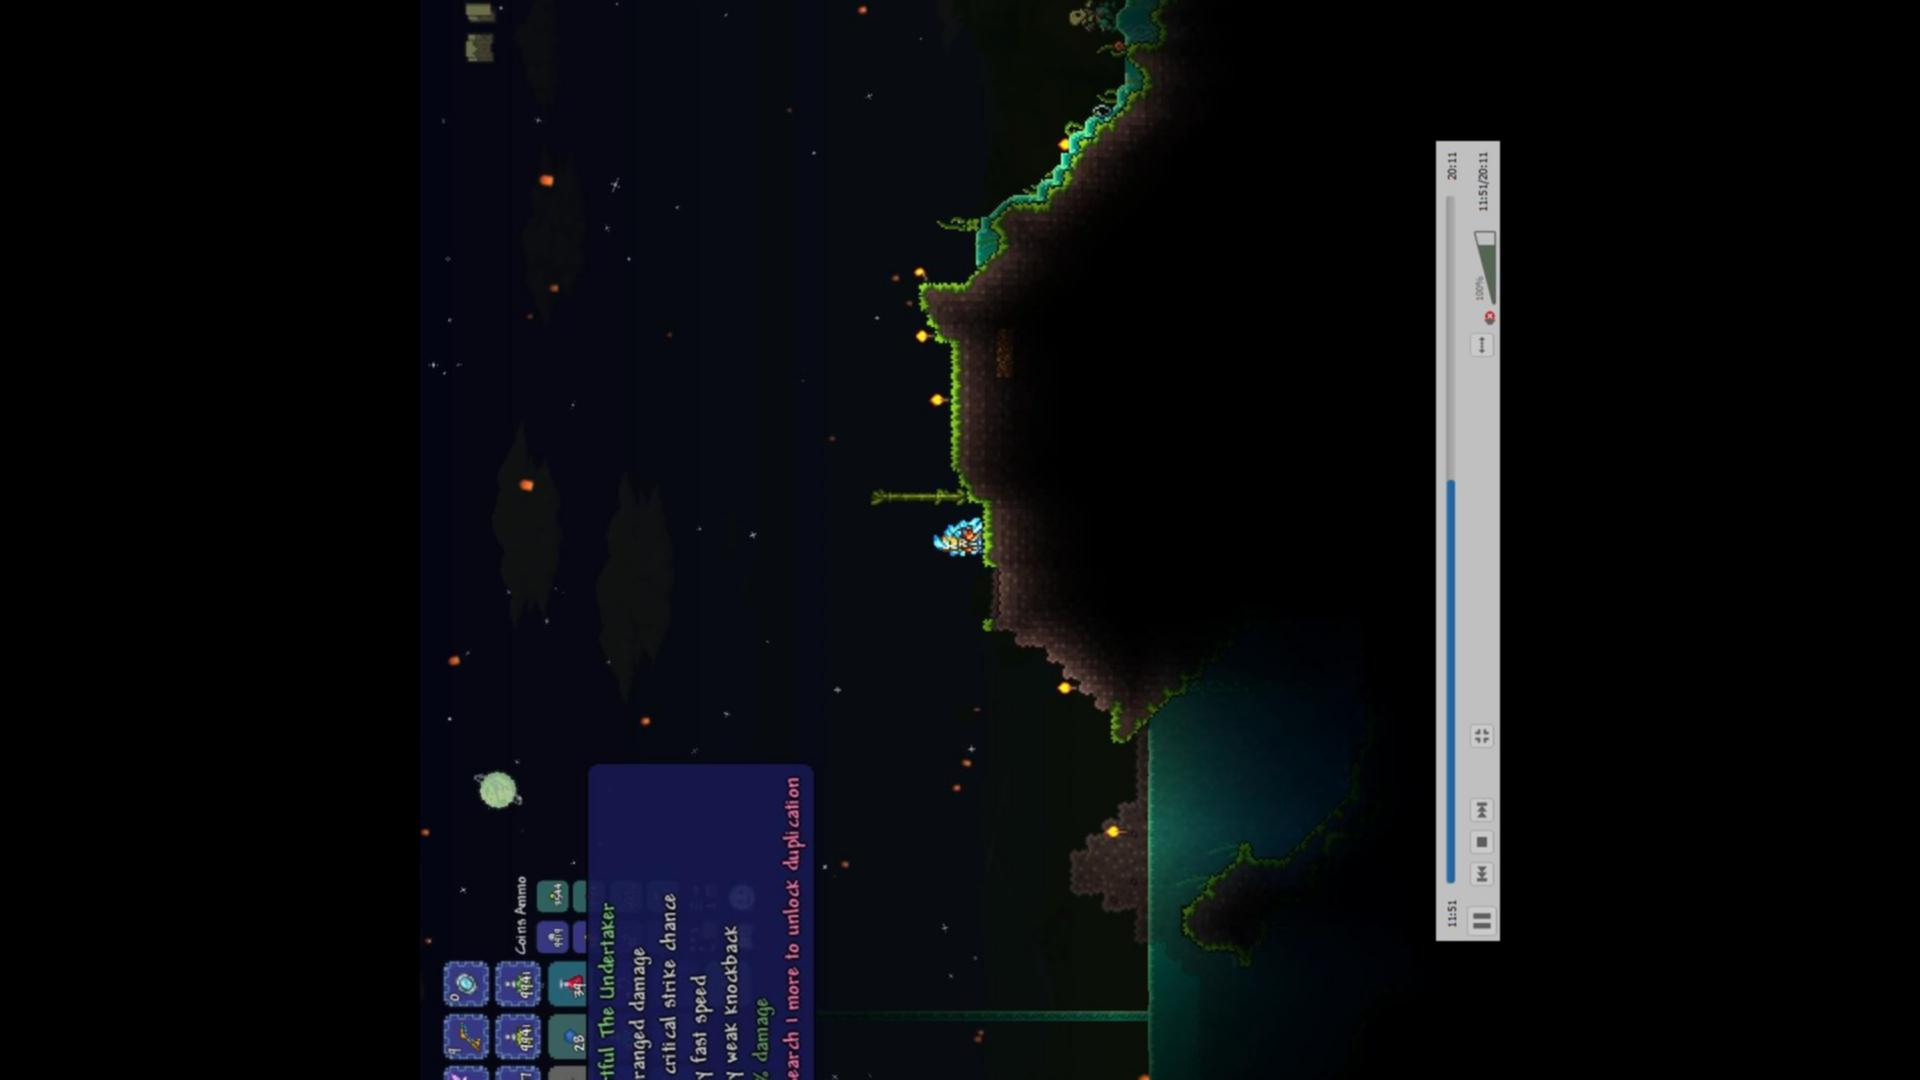lens: (1084, 99, 1116, 119)
mirror: (450, 971, 479, 996)
